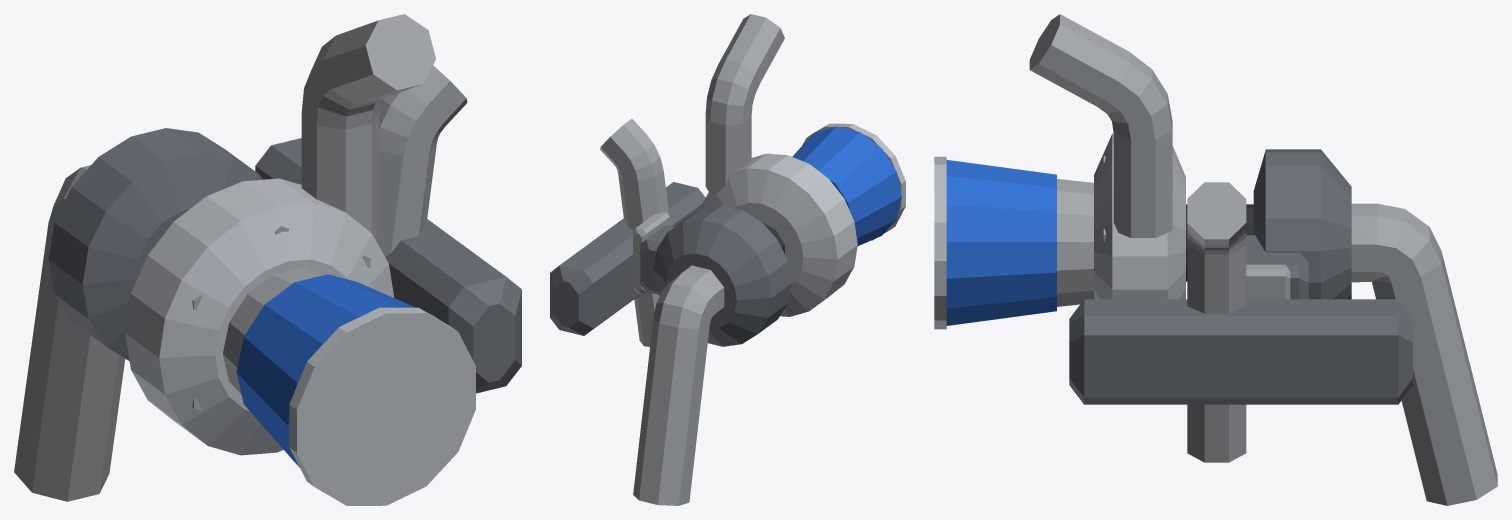
The model's file is hana_roadster.glb.
3 renders of one model, left to right at view 1: azimuth 30°, elevation 25°; view 2: azimuth 150°, elevation 25°; view 3: azimuth 270°, elevation 25°, orthographic. The views are drawn at different scales.
Parts seen in each view (by area): view 1: model; view 2: model; view 3: model.
Part boxes in pixels (x1,y1,x2,y2): model: (14,14,521,505); model: (550,14,905,505); model: (934,14,1497,505).
Bounding box in the file's own units: 0.279 × 0.4571 × 0.4588.
Materials: 2 (1 with a texture image).
